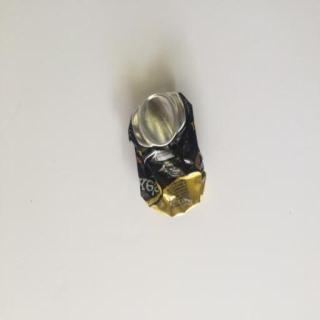Anorganik: (127, 86, 209, 222)
